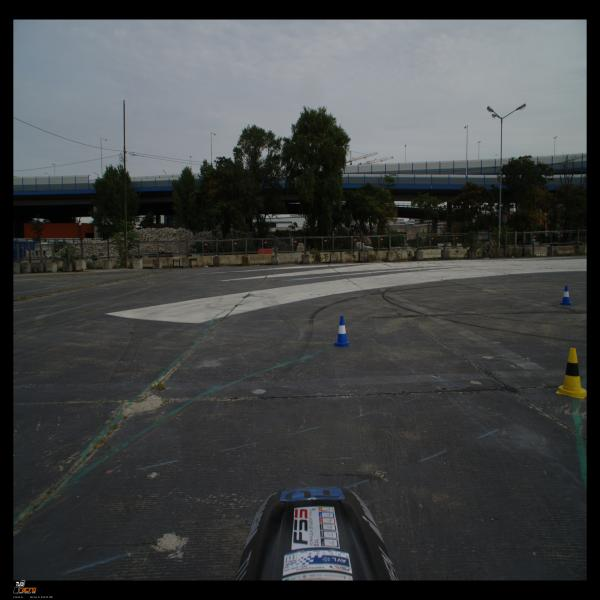blue_cone: (334, 316, 350, 347), (558, 286, 573, 306)
yellow_cone: (556, 348, 586, 398)
